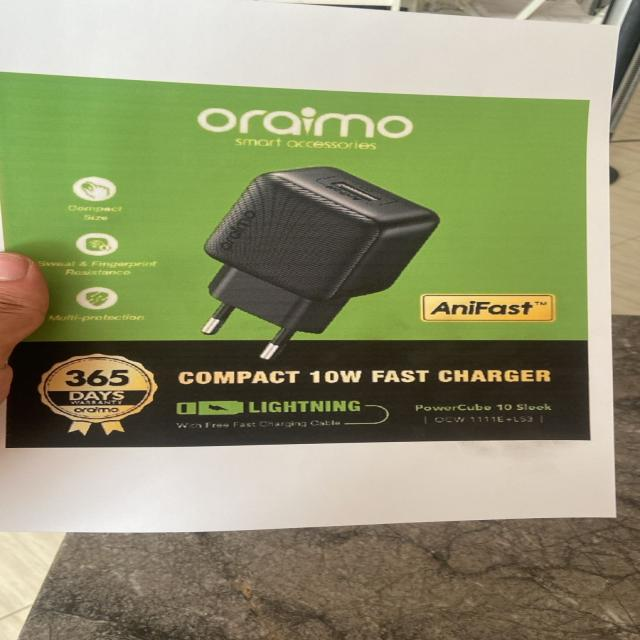PowerCube 10 Sleek OCW-1111ExL53: (411, 403, 563, 430)
